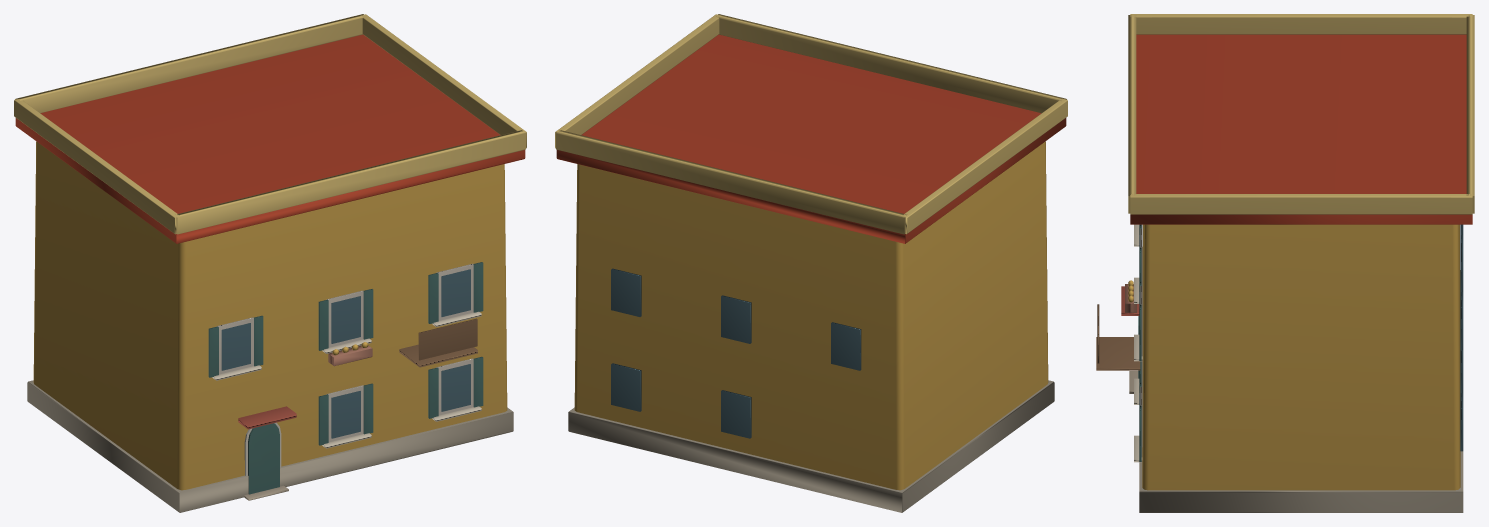
File: house_04.glb
The picture shows the model from 3 angles, left to right: view 1: azimuth 30°, elevation 25°; view 2: azimuth 150°, elevation 25°; view 3: azimuth 270°, elevation 25°; orthographic projection. The views are drawn at different scales.
Visible parts, largest first — view 1: house_04; view 2: house_04; view 3: house_04.
Part boxes in pixels (<box>): house_04: <box>14,14,526,512</box>; house_04: <box>555,14,1067,512</box>; house_04: <box>1096,14,1474,512</box>.
Bounding box in the file's own units: 10.9 × 8.95 × 9.5.
